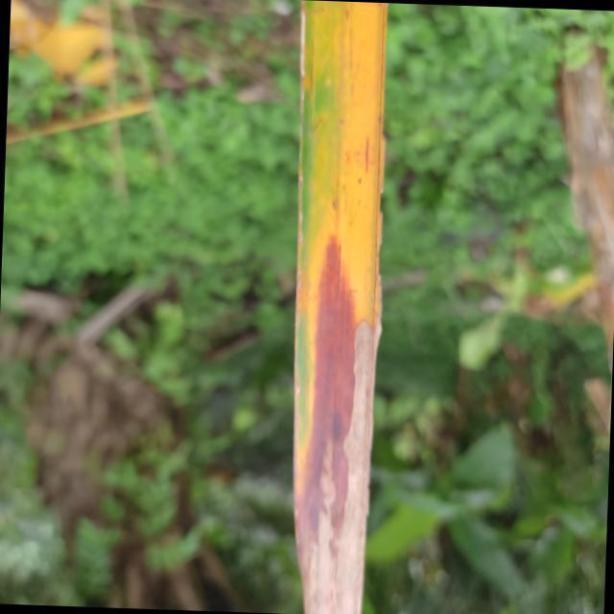Megnesium: (291, 0, 387, 614)
